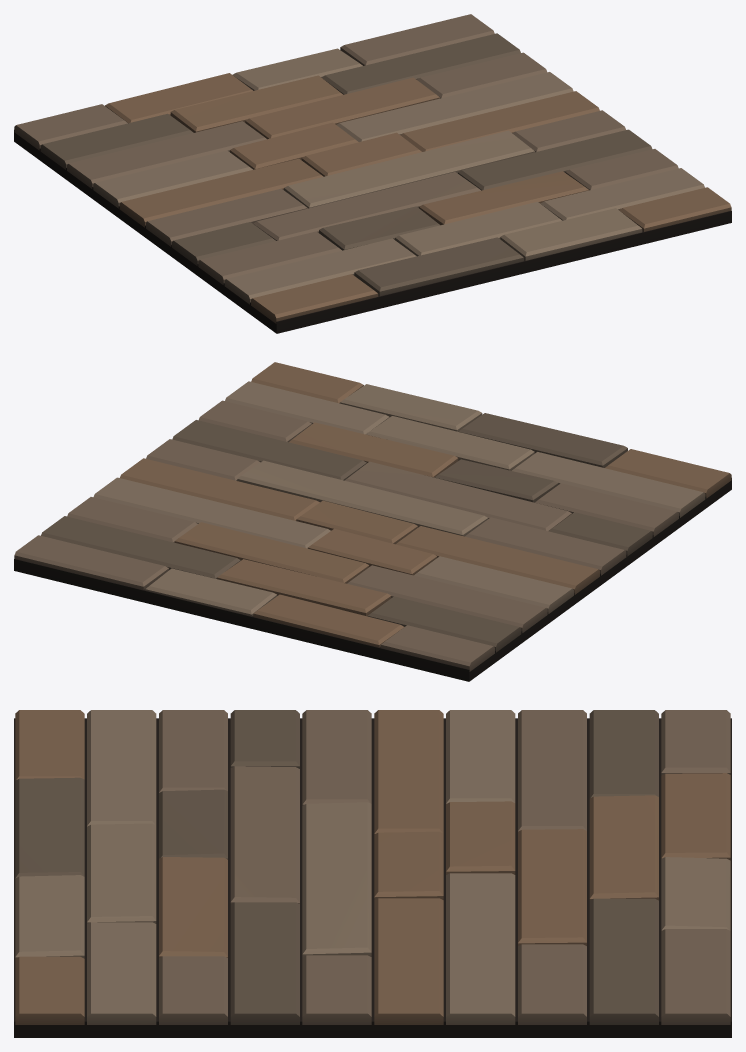
File: floor_planks_rotten_large_C.glb
3 renders of one model, top to bottom at view 1: azimuth 30°, elevation 25°; view 2: azimuth 150°, elevation 25°; view 3: azimuth 270°, elevation 25°, orthographic. The views are drawn at different scales.
Visible parts, largest first — view 1: Item; view 2: Item; view 3: Item.
Part boxes in pixels (x1=…): Item: x1=14, y1=14, x2=731, y2=333; Item: x1=14, y1=362, x2=731, y2=681; Item: x1=14, y1=710, x2=731, y2=1037.
Bounding box in the file's own units: 4 × 0.1714 × 4.
1 material, 1 textured.
